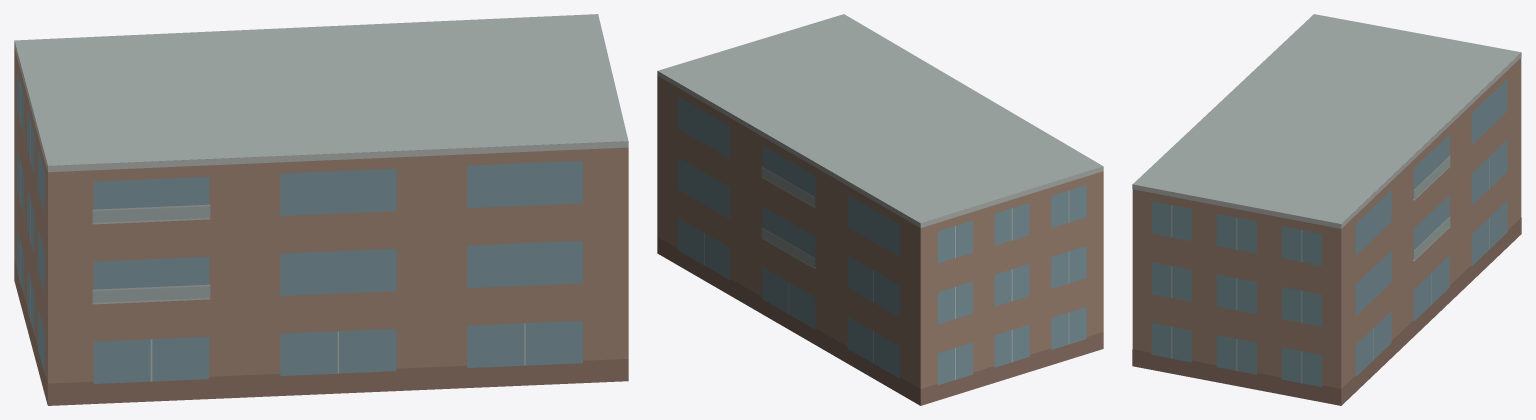
The model's file is survey-upis-32993419.glb.
The picture shows the model from 3 angles, left to right: view 1: azimuth 30°, elevation 25°; view 2: azimuth 150°, elevation 25°; view 3: azimuth 270°, elevation 25°; orthographic projection. The views are drawn at different scales.
Visible parts, largest first — view 1: survey-upis-32993419.tmp; view 2: survey-upis-32993419.tmp; view 3: survey-upis-32993419.tmp.
Part boxes in pixels (box(x1,y1,x2,y2)): survey-upis-32993419.tmp: box(14, 14, 628, 405); survey-upis-32993419.tmp: box(657, 14, 1103, 405); survey-upis-32993419.tmp: box(1132, 14, 1521, 405).
Size of the model in its own units: 22.68 by 9.15 by 17.75.
